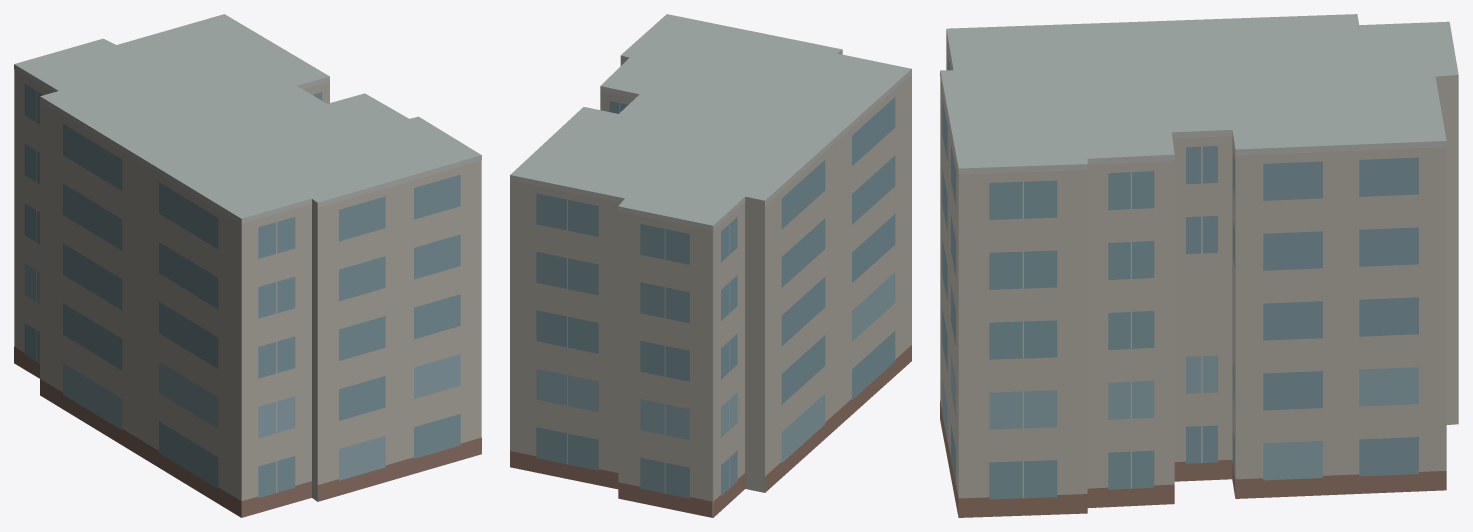
The model's file is survey-upis-32782059.glb.
3 renders of one model, left to right at view 1: azimuth 30°, elevation 25°; view 2: azimuth 150°, elevation 25°; view 3: azimuth 270°, elevation 25°, orthographic. The views are drawn at different scales.
Parts seen in each view (by area): view 1: survey-upis-32782059.tmp; view 2: survey-upis-32782059.tmp; view 3: survey-upis-32782059.tmp.
Part boxes in pixels (x1,y1,x2,y2): survey-upis-32782059.tmp: (14,14,481,517); survey-upis-32782059.tmp: (510,14,911,517); survey-upis-32782059.tmp: (940,14,1458,517).
Size of the model in its own units: 13.29 by 14 by 18.84.
